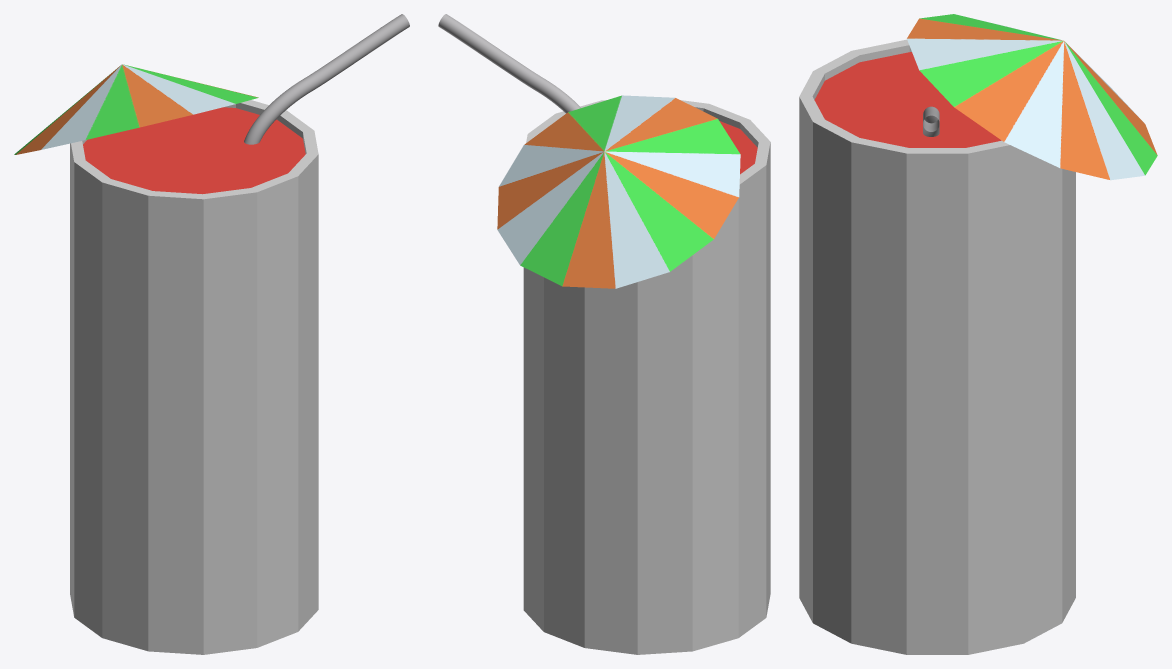
The model's file is CoctailCherry.fbx.
3 renders of one model, left to right at view 1: azimuth 30°, elevation 25°; view 2: azimuth 150°, elevation 25°; view 3: azimuth 270°, elevation 25°, orthographic. The views are drawn at different scales.
Visible parts, largest first — view 1: Body, BodyRed, Upbrella, Tube; view 2: Body, Upbrella, Tube, BodyRed; view 3: Body, Upbrella, BodyRed.
Part boxes in pixels (left/top/right/bottom): Body: left=70, top=100, right=318, bottom=654; BodyRed: left=83, top=107, right=305, bottom=194; Upbrella: left=14, top=64, right=258, bottom=154; Tube: left=244, top=14, right=409, bottom=144; Body: left=523, top=100, right=770, bottom=654; Upbrella: left=497, top=95, right=740, bottom=288; Tube: left=438, top=14, right=580, bottom=113; BodyRed: left=719, top=121, right=757, bottom=174; Body: left=799, top=39, right=1075, bottom=654; Upbrella: left=907, top=14, right=1157, bottom=180; BodyRed: left=814, top=52, right=1001, bottom=147.
Bounding box in the file's own units: 0.4597 × 0.3887 × 0.7098.
Materials: 5 (1 with a texture image).
